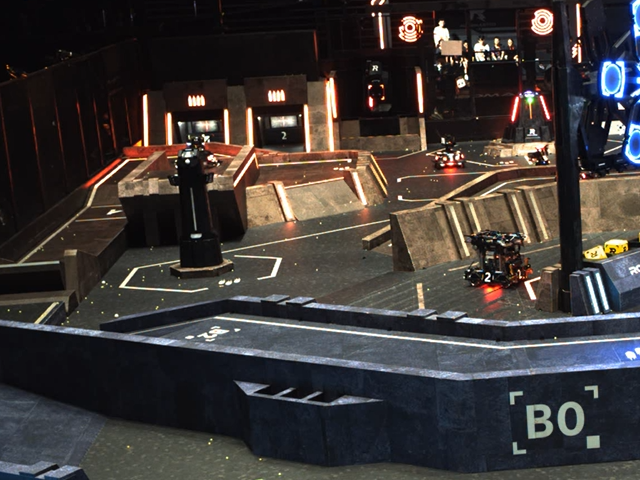rm: (463, 231, 533, 289), (433, 136, 466, 169)
